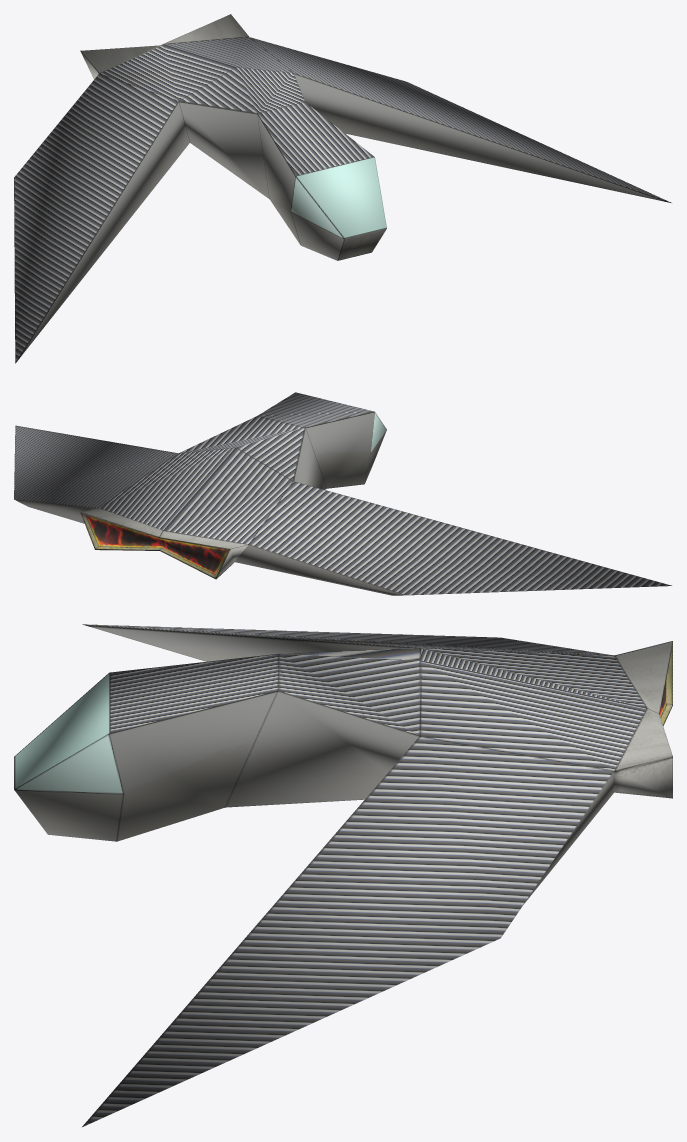
Rendered from R_wing.obj.
3 views of the same model, one above another, from view 1: azimuth 30°, elevation 25°; view 2: azimuth 150°, elevation 25°; view 3: azimuth 270°, elevation 25° (orthographic). The views are drawn at different scales.
Parts seen in each view (by area): view 1: r_wing; view 2: r_wing; view 3: r_wing.
Boxes of the visible parts, bbox=[...] form: r_wing: bbox=[14, 14, 671, 363]; r_wing: bbox=[14, 392, 671, 595]; r_wing: bbox=[14, 624, 672, 1126].
Bounding box in the file's own units: 16.55 × 3.3 × 9.15.
1 material, 1 textured.
